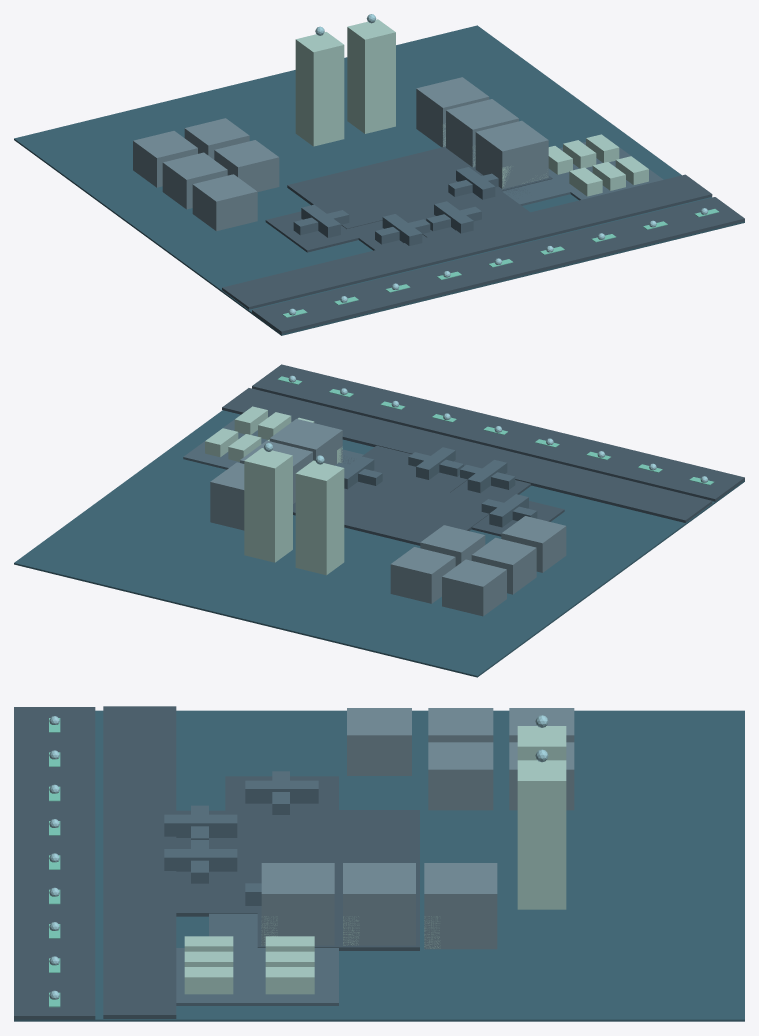
Rendered from stage_22.glb.
3 renders of one model, top to bottom at view 1: azimuth 30°, elevation 25°; view 2: azimuth 150°, elevation 25°; view 3: azimuth 270°, elevation 25°, orthographic. The views are drawn at different scales.
Parts seen in each view (by area): view 1: geometry_0; view 2: geometry_0; view 3: geometry_0.
Boxes of the visible parts, x1,y1,x2,y2 form: geometry_0: (14, 14, 744, 335); geometry_0: (14, 364, 744, 677); geometry_0: (14, 706, 744, 1021).
Bounding box in the file's own units: 9 × 2.06 × 9.
